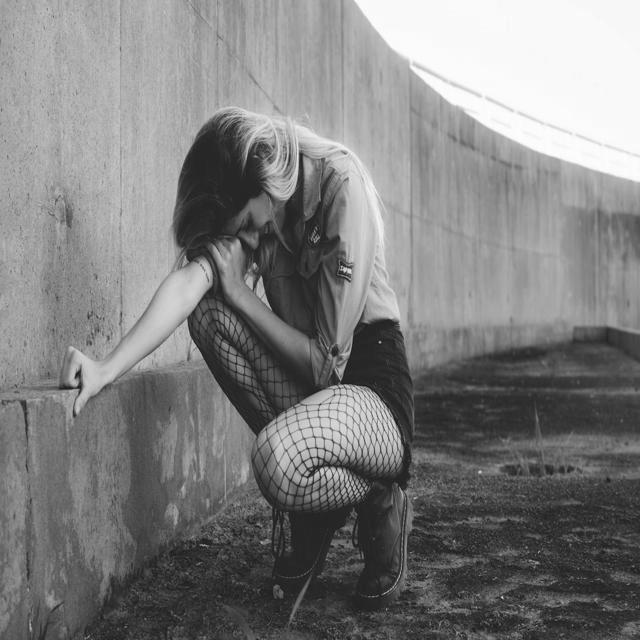Happiness: (217, 186, 293, 256)
